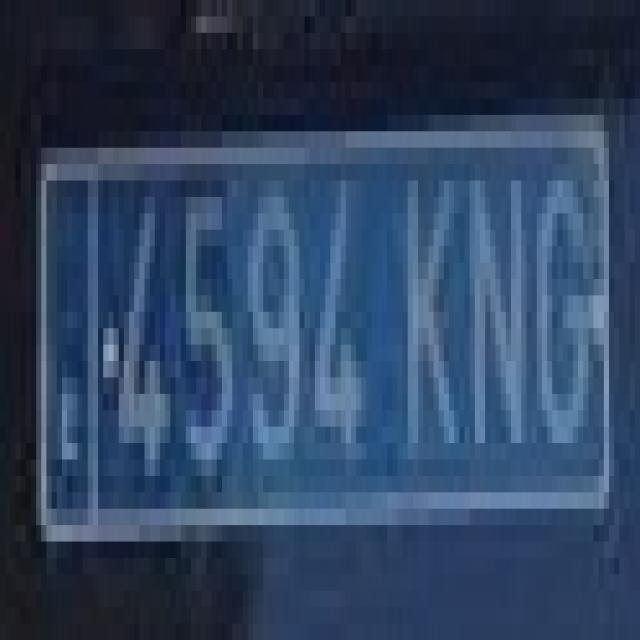LicensePlate: (35, 113, 611, 548)
